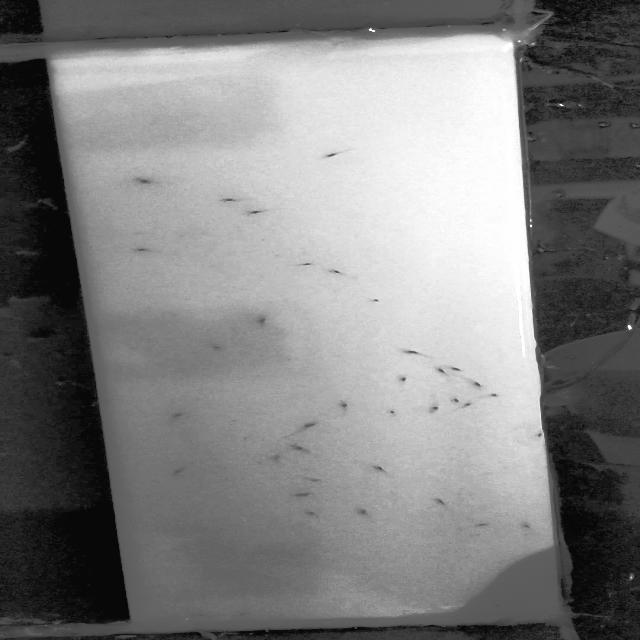shrimp: (127, 176, 175, 191), (160, 462, 197, 479), (285, 418, 316, 438), (343, 507, 386, 521), (165, 409, 200, 426), (291, 440, 322, 456), (323, 146, 353, 160), (424, 396, 442, 418), (450, 401, 480, 414), (432, 365, 458, 380), (380, 407, 407, 421), (266, 452, 298, 463), (446, 363, 477, 374), (480, 599, 508, 611), (254, 314, 276, 329), (518, 522, 545, 534), (232, 609, 258, 621), (370, 464, 394, 477), (438, 390, 462, 403), (523, 426, 546, 439), (468, 520, 494, 531), (134, 246, 165, 255), (330, 400, 351, 413), (219, 196, 253, 204), (432, 496, 458, 506), (290, 491, 318, 500), (245, 209, 280, 216), (332, 268, 355, 278), (464, 377, 489, 386), (288, 260, 316, 268), (485, 390, 505, 399), (366, 295, 384, 305), (297, 510, 319, 518), (402, 348, 423, 356), (188, 612, 210, 619), (397, 374, 412, 384), (203, 344, 227, 350), (305, 474, 327, 480)
